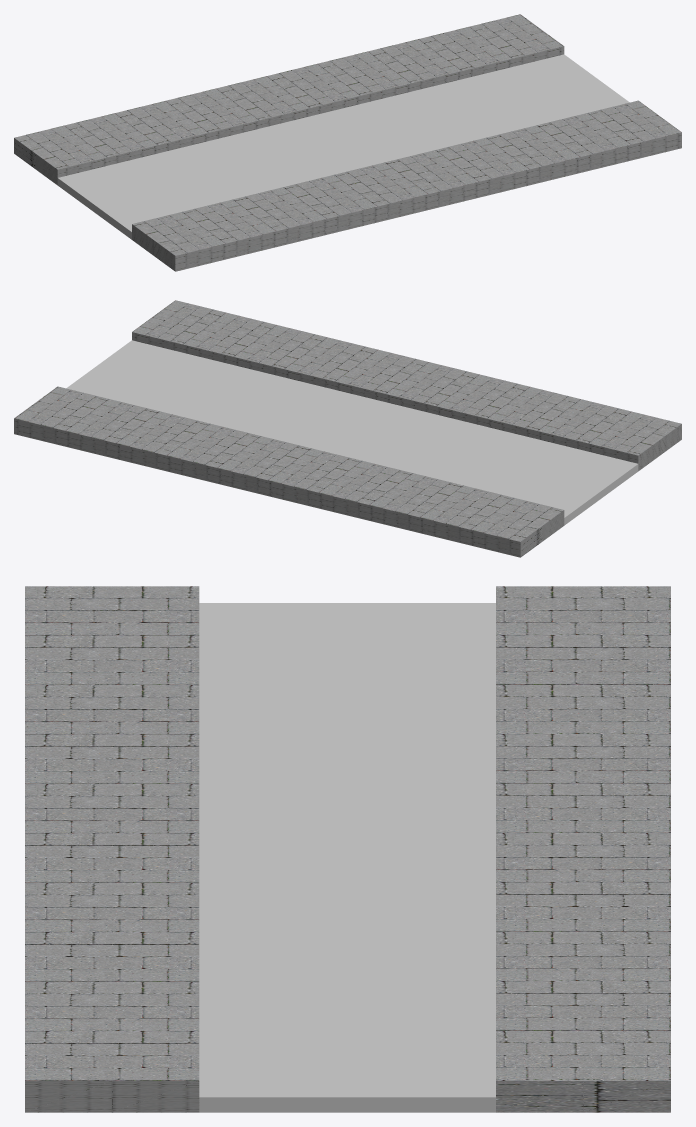
Rendered from Road.fbx.
3 views of the same model, one above another, from view 1: azimuth 30°, elevation 25°; view 2: azimuth 150°, elevation 25°; view 3: azimuth 270°, elevation 25° (orthographic). The views are drawn at different scales.
Parts seen in each view (by area): view 1: Cube.044; view 2: Cube.044; view 3: Cube.044.
Boxes of the visible parts, bbox=[...] form: Cube.044: bbox=[14, 14, 681, 271]; Cube.044: bbox=[14, 300, 681, 557]; Cube.044: bbox=[25, 586, 670, 1112].
Bounding box in the file's own units: 2720 × 81.27 × 1502.
